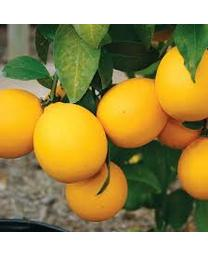lemon: (34, 105, 106, 184), (97, 79, 166, 146), (156, 44, 207, 123), (64, 161, 127, 220), (0, 87, 40, 158), (179, 136, 207, 201)
